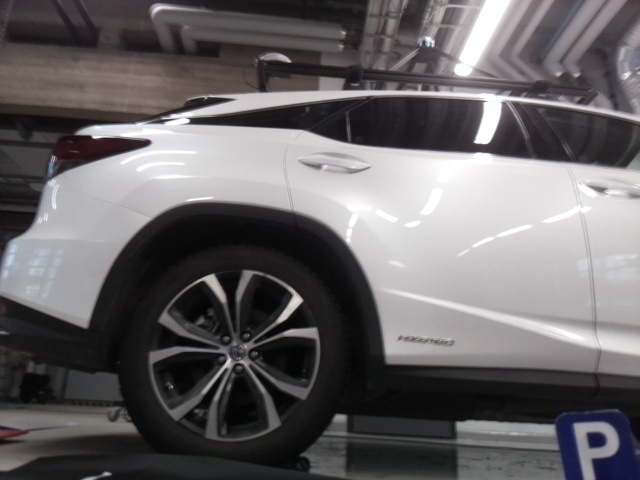Parking: (553, 412, 637, 479)
